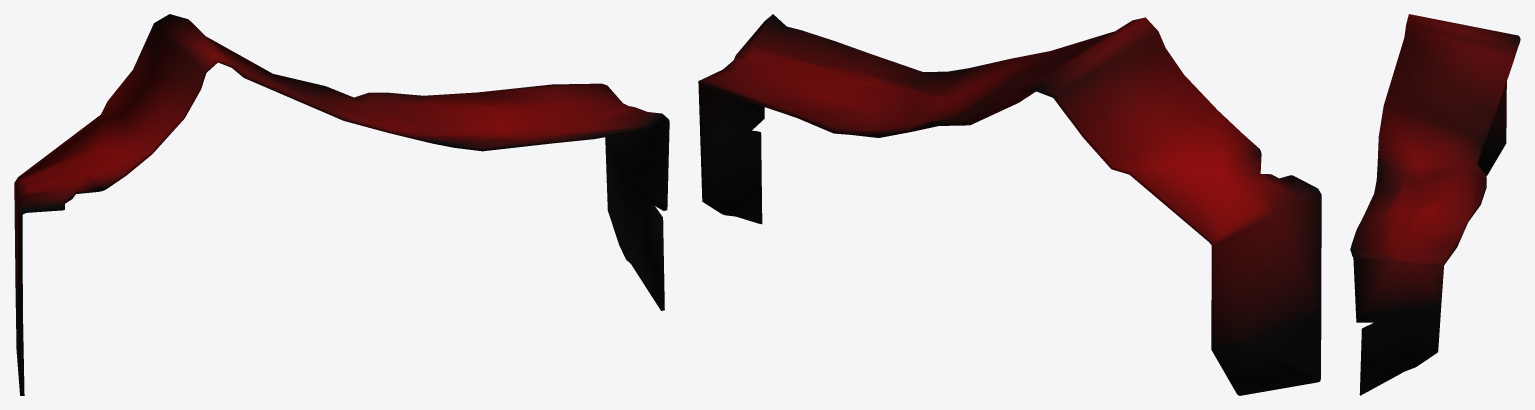
Rendered from pelt_tent_village_generic_A.gltf.
3 renders of one model, left to right at view 1: azimuth 30°, elevation 25°; view 2: azimuth 150°, elevation 25°; view 3: azimuth 270°, elevation 25°, orthographic. The views are drawn at different scales.
Visible parts, largest first — view 1: pelt_tent_village_generic_A; view 2: pelt_tent_village_generic_A; view 3: pelt_tent_village_generic_A.
Part boxes in pixels (x1=…): pelt_tent_village_generic_A: x1=14, y1=14, x2=669, y2=395; pelt_tent_village_generic_A: x1=698, y1=14, x2=1321, y2=395; pelt_tent_village_generic_A: x1=1350, y1=14, x2=1520, y2=395.
Size of the model in its own units: 4.73 by 2.47 by 1.61.
